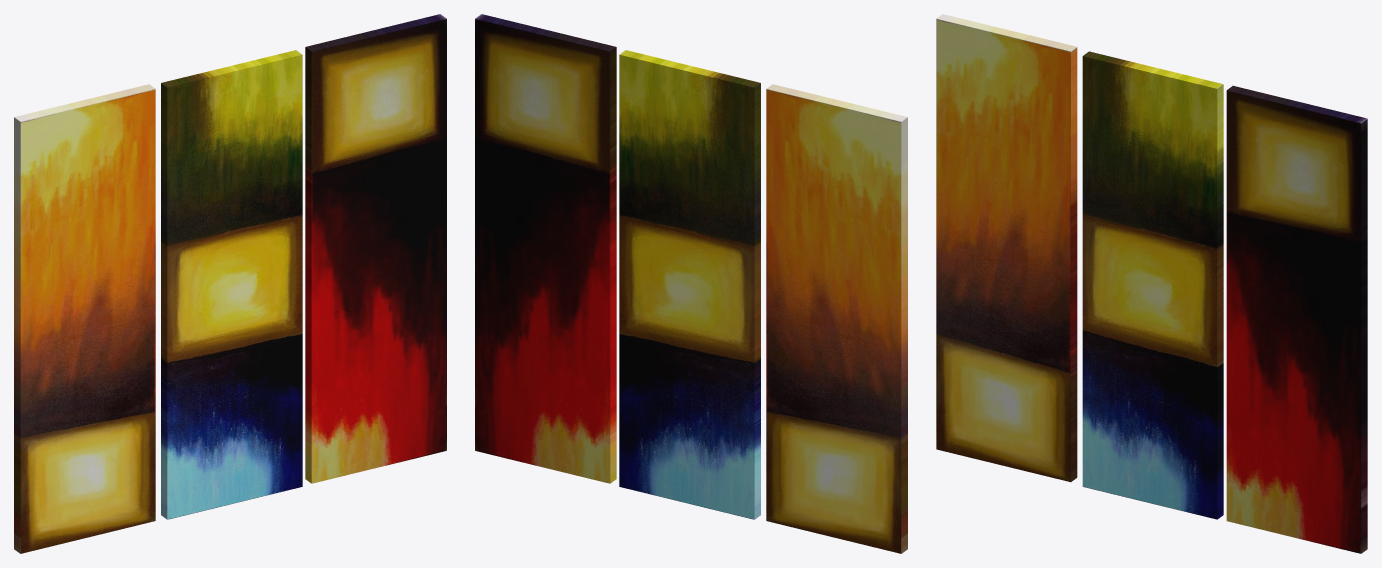
File: modern-panel-painting.fbx
3 renders of one model, left to right at view 1: azimuth 30°, elevation 25°; view 2: azimuth 150°, elevation 25°; view 3: azimuth 330°, elevation 25°, orthographic.
Parts seen in each view (by area): view 1: Group3, Group4, Group2; view 2: Group3, Group4, Group2; view 3: Group2, Group3, Group4.
Part boxes in pixels (<box>): Group3: <box>305,14,446,483</box>; Group4: <box>14,84,155,553</box>; Group2: <box>161,50,302,519</box>; Group3: <box>475,14,616,483</box>; Group4: <box>766,84,907,553</box>; Group2: <box>619,50,760,519</box>; Group2: <box>1082,51,1223,519</box>; Group3: <box>1226,85,1367,553</box>; Group4: <box>936,14,1077,482</box>.
Bounding box in the file's own units: 1.76 × 1.71 × 0.046.
